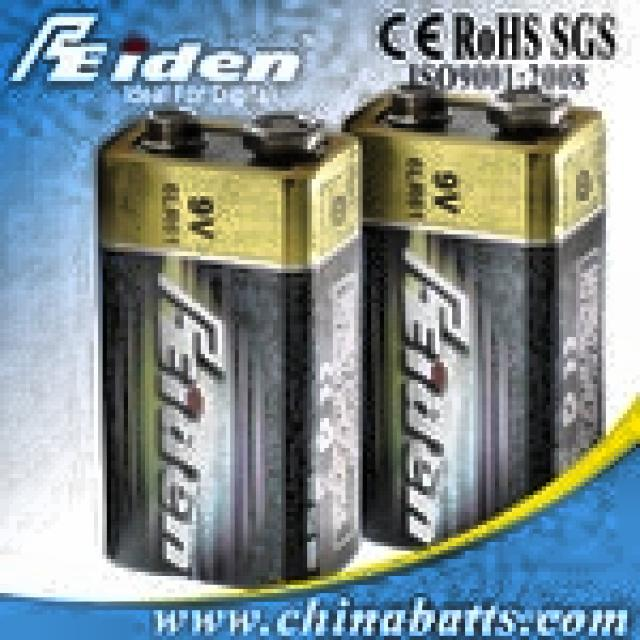Non-Valuable Waste - Batteries: (99, 113, 360, 583), (346, 86, 604, 543)
